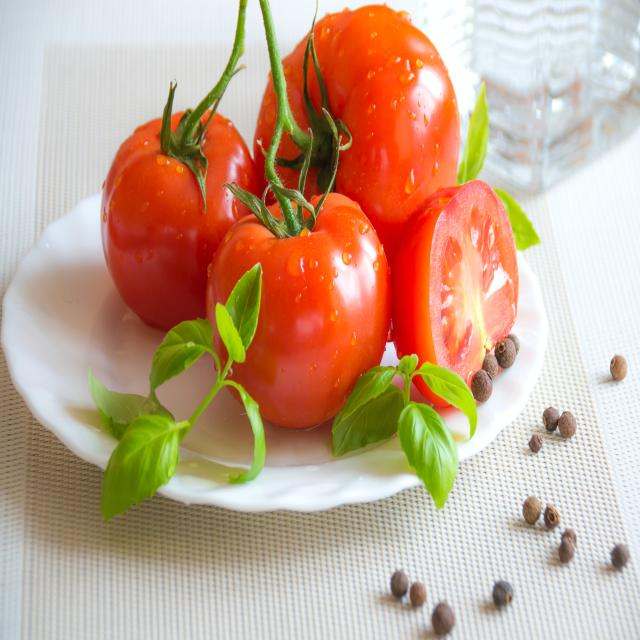Tomato: (185, 162, 392, 406), (95, 84, 254, 310)
